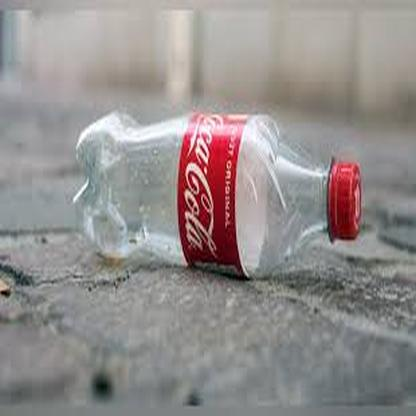plastic bottle: (74, 110, 363, 275)
